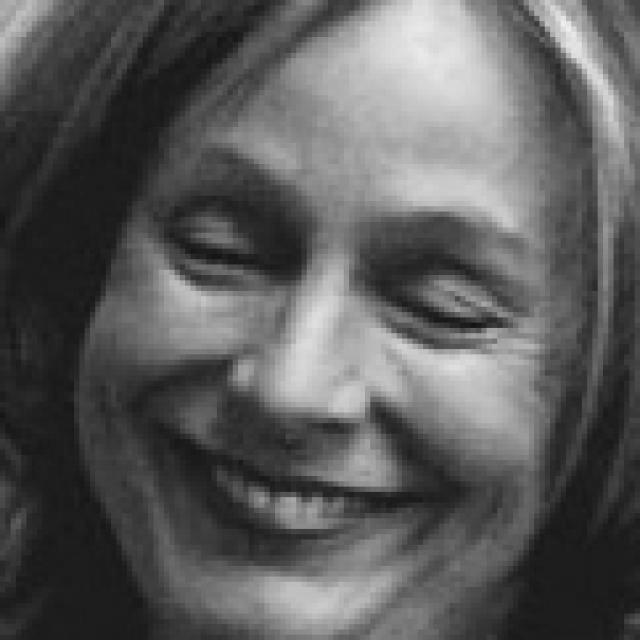real: (68, 16, 568, 622), (171, 189, 498, 354)
